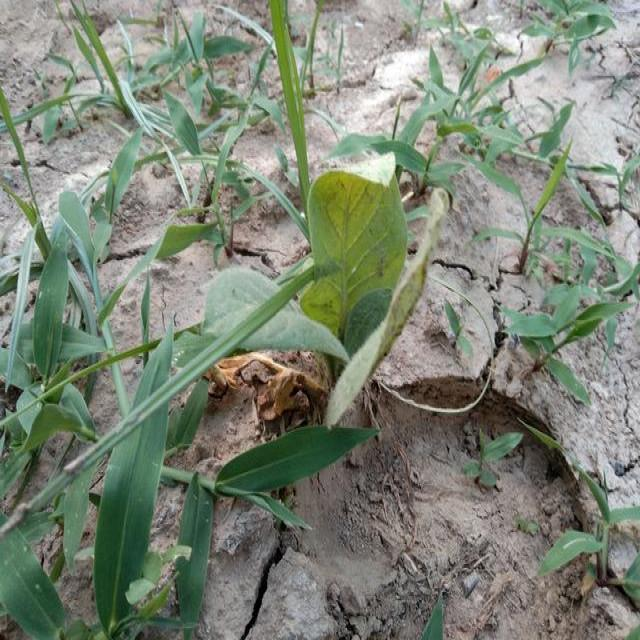crop: (206, 176, 442, 406)
